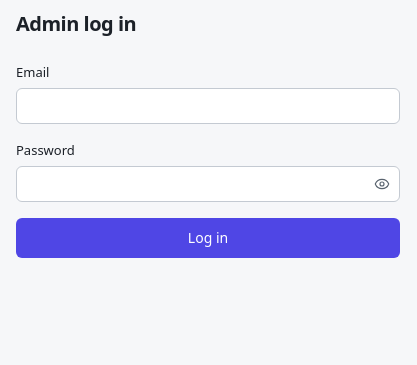
admin login page › reports a network failure without claiming the password was wrong
Type "boss@example.com" into the field labelled "Email" at (208, 106), box [16,88,400,124]
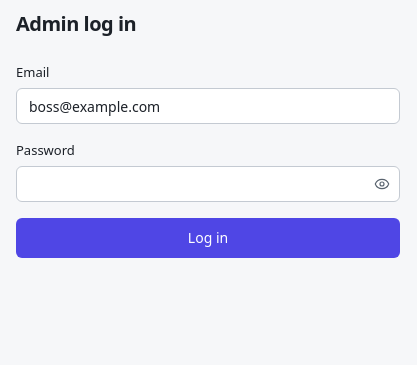
Type "whatever-123" into the password field labelled "Password" at (208, 184), box [16,166,400,202]
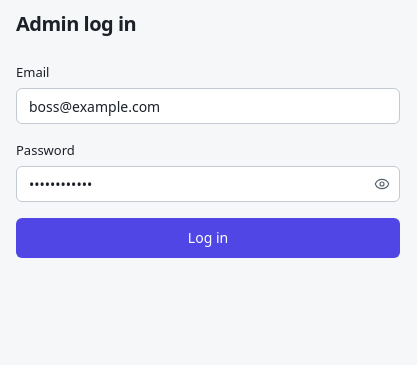
Click the button "Log in" at (208, 238), box [16,218,400,258]
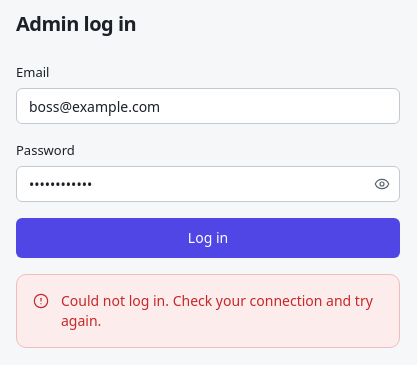
Expected: the message shows "Could not log in. Check your connection", [61,291,373,330]
